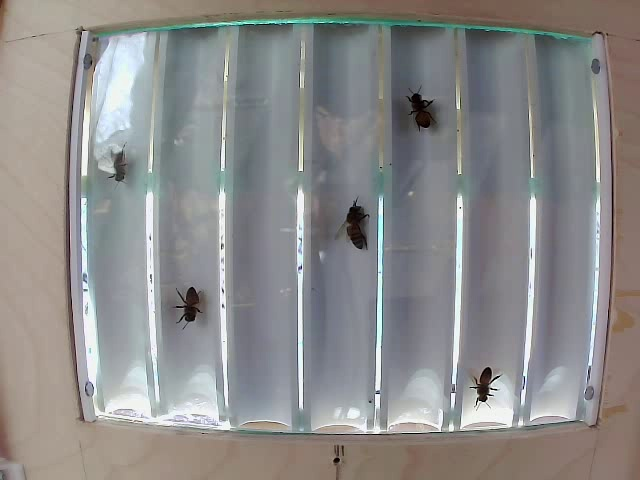bee: (95, 128, 151, 202), (169, 269, 214, 327), (403, 70, 443, 134), (329, 202, 368, 259), (460, 357, 503, 399)
